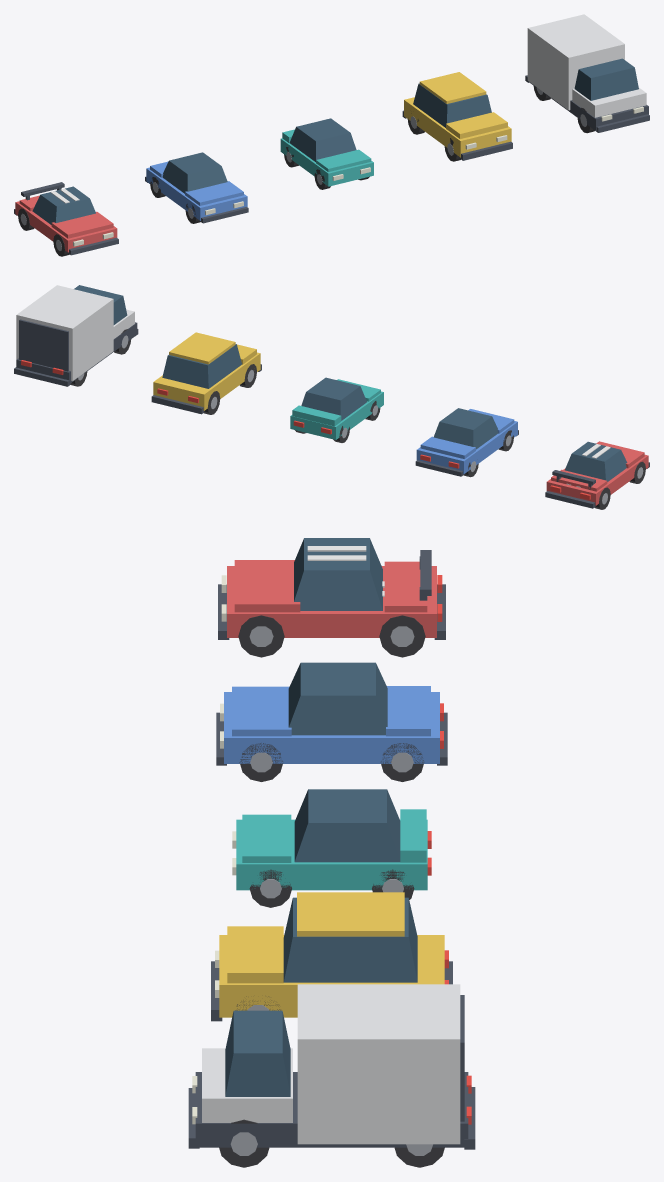
The model's file is all_highway_dash_cars.glb.
3 renders of one model, top to bottom at view 1: azimuth 30°, elevation 25°; view 2: azimuth 150°, elevation 25°; view 3: azimuth 270°, elevation 25°, orthographic. The views are drawn at different scales.
Visible parts, largest first — view 1: traffic_box_truck_cargo_box, traffic_box_truck_cab_upper, traffic_hatchback_teal_cabin, traffic_sedan_blue_cabin, traffic_suv_yellow_lower_body, traffic_suv_yellow_cabin, player_sports_car_cabin, traffic_sedan_blue_lower_body, traffic_box_truck_cab_lower, traffic_suv_yellow_roof, traffic_hatchback_teal_lower_body, player_sports_car_lower_body (+8 smaller); view 2: traffic_box_truck_cargo_box, traffic_box_truck_rear_door, traffic_suv_yellow_cabin, traffic_suv_yellow_lower_body, traffic_sedan_blue_cabin, traffic_hatchback_teal_cabin, player_sports_car_cabin, traffic_sedan_blue_lower_body, traffic_suv_yellow_roof, traffic_hatchback_teal_lower_body, player_sports_car_lower_body, traffic_box_truck_chassis (+8 smaller); view 3: traffic_box_truck_cargo_box, traffic_hatchback_teal_cabin, traffic_suv_yellow_cabin, traffic_sedan_blue_cabin, traffic_sedan_blue_lower_body, player_sports_car_cabin, traffic_hatchback_teal_lower_body, traffic_box_truck_cab_upper, traffic_suv_yellow_roof, player_sports_car_lower_body, traffic_suv_yellow_lower_body, traffic_box_truck_chassis (+10 smaller).
Part boxes in pixels (x1,y1,x2,y2): traffic_box_truck_cargo_box: [527, 14, 624, 110]; traffic_box_truck_cab_upper: [574, 58, 638, 100]; traffic_hatchback_teal_cabin: [289, 118, 356, 161]; traffic_sedan_blue_cabin: [162, 152, 227, 193]; traffic_suv_yellow_lower_body: [404, 97, 511, 157]; traffic_suv_yellow_cabin: [413, 83, 491, 127]; player_sports_car_cabin: [32, 186, 95, 224]; traffic_sedan_blue_lower_body: [146, 167, 247, 220]; traffic_box_truck_cab_lower: [572, 87, 646, 117]; traffic_suv_yellow_roof: [419, 72, 486, 103]; traffic_hatchback_teal_lower_body: [280, 138, 373, 186]; player_sports_car_lower_body: [15, 201, 117, 252]; traffic_box_truck_cargo_box: [16, 285, 113, 380]; traffic_box_truck_rear_door: [19, 319, 68, 371]; traffic_suv_yellow_cabin: [162, 344, 241, 388]; traffic_suv_yellow_lower_body: [153, 352, 260, 410]; traffic_sedan_blue_cabin: [434, 408, 498, 449]; traffic_hatchback_teal_cabin: [301, 377, 366, 420]; player_sports_car_cabin: [565, 441, 627, 481]; traffic_sedan_blue_lower_body: [416, 421, 517, 474]; traffic_suv_yellow_roof: [169, 332, 235, 364]; traffic_hatchback_teal_lower_body: [290, 391, 383, 439]; player_sports_car_lower_body: [546, 454, 648, 505]; traffic_box_truck_chassis: [16, 322, 137, 382]; traffic_box_truck_cargo_box: [297, 984, 460, 1144]; traffic_hatchback_teal_cabin: [294, 789, 400, 862]; traffic_suv_yellow_cabin: [283, 897, 417, 982]; traffic_sedan_blue_cabin: [288, 662, 387, 735]; traffic_sedan_blue_lower_body: [224, 692, 439, 763]; player_sports_car_cabin: [294, 538, 382, 610]; traffic_hatchback_teal_lower_body: [236, 819, 427, 890]; traffic_box_truck_cab_upper: [225, 1010, 290, 1096]; traffic_suv_yellow_roof: [297, 892, 404, 936]; player_sports_car_lower_body: [227, 566, 436, 637]; traffic_suv_yellow_lower_body: [219, 935, 444, 1017]; traffic_box_truck_chassis: [195, 1072, 468, 1147].
Size of the model in its own units: 21.17 by 2.3 by 4.58.
